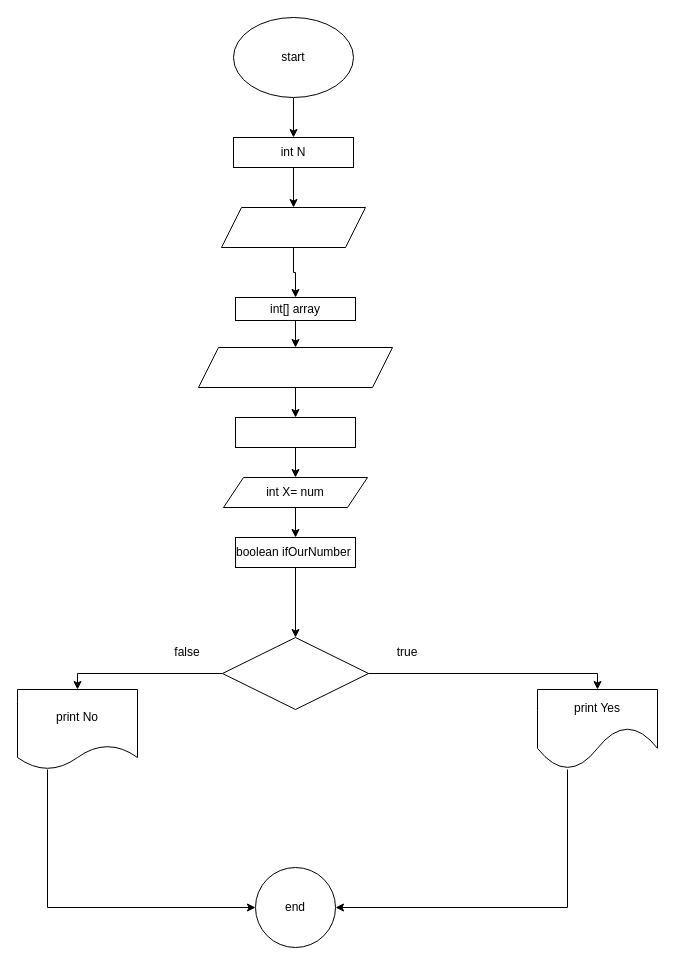
Some shapes in this 675 by 965 pixel diagram are drawn without their labels. The shapes that lost their labels are listed below. From the top down, each one's box as (x1, y1, x2, y2) in pixels, then its label:
(220, 206, 366, 248): int N= num
(198, 346, 392, 388): int[] array= {1 ,2, 3}
(234, 416, 356, 448): int X
(222, 636, 368, 710): if ifOurNumber is true
